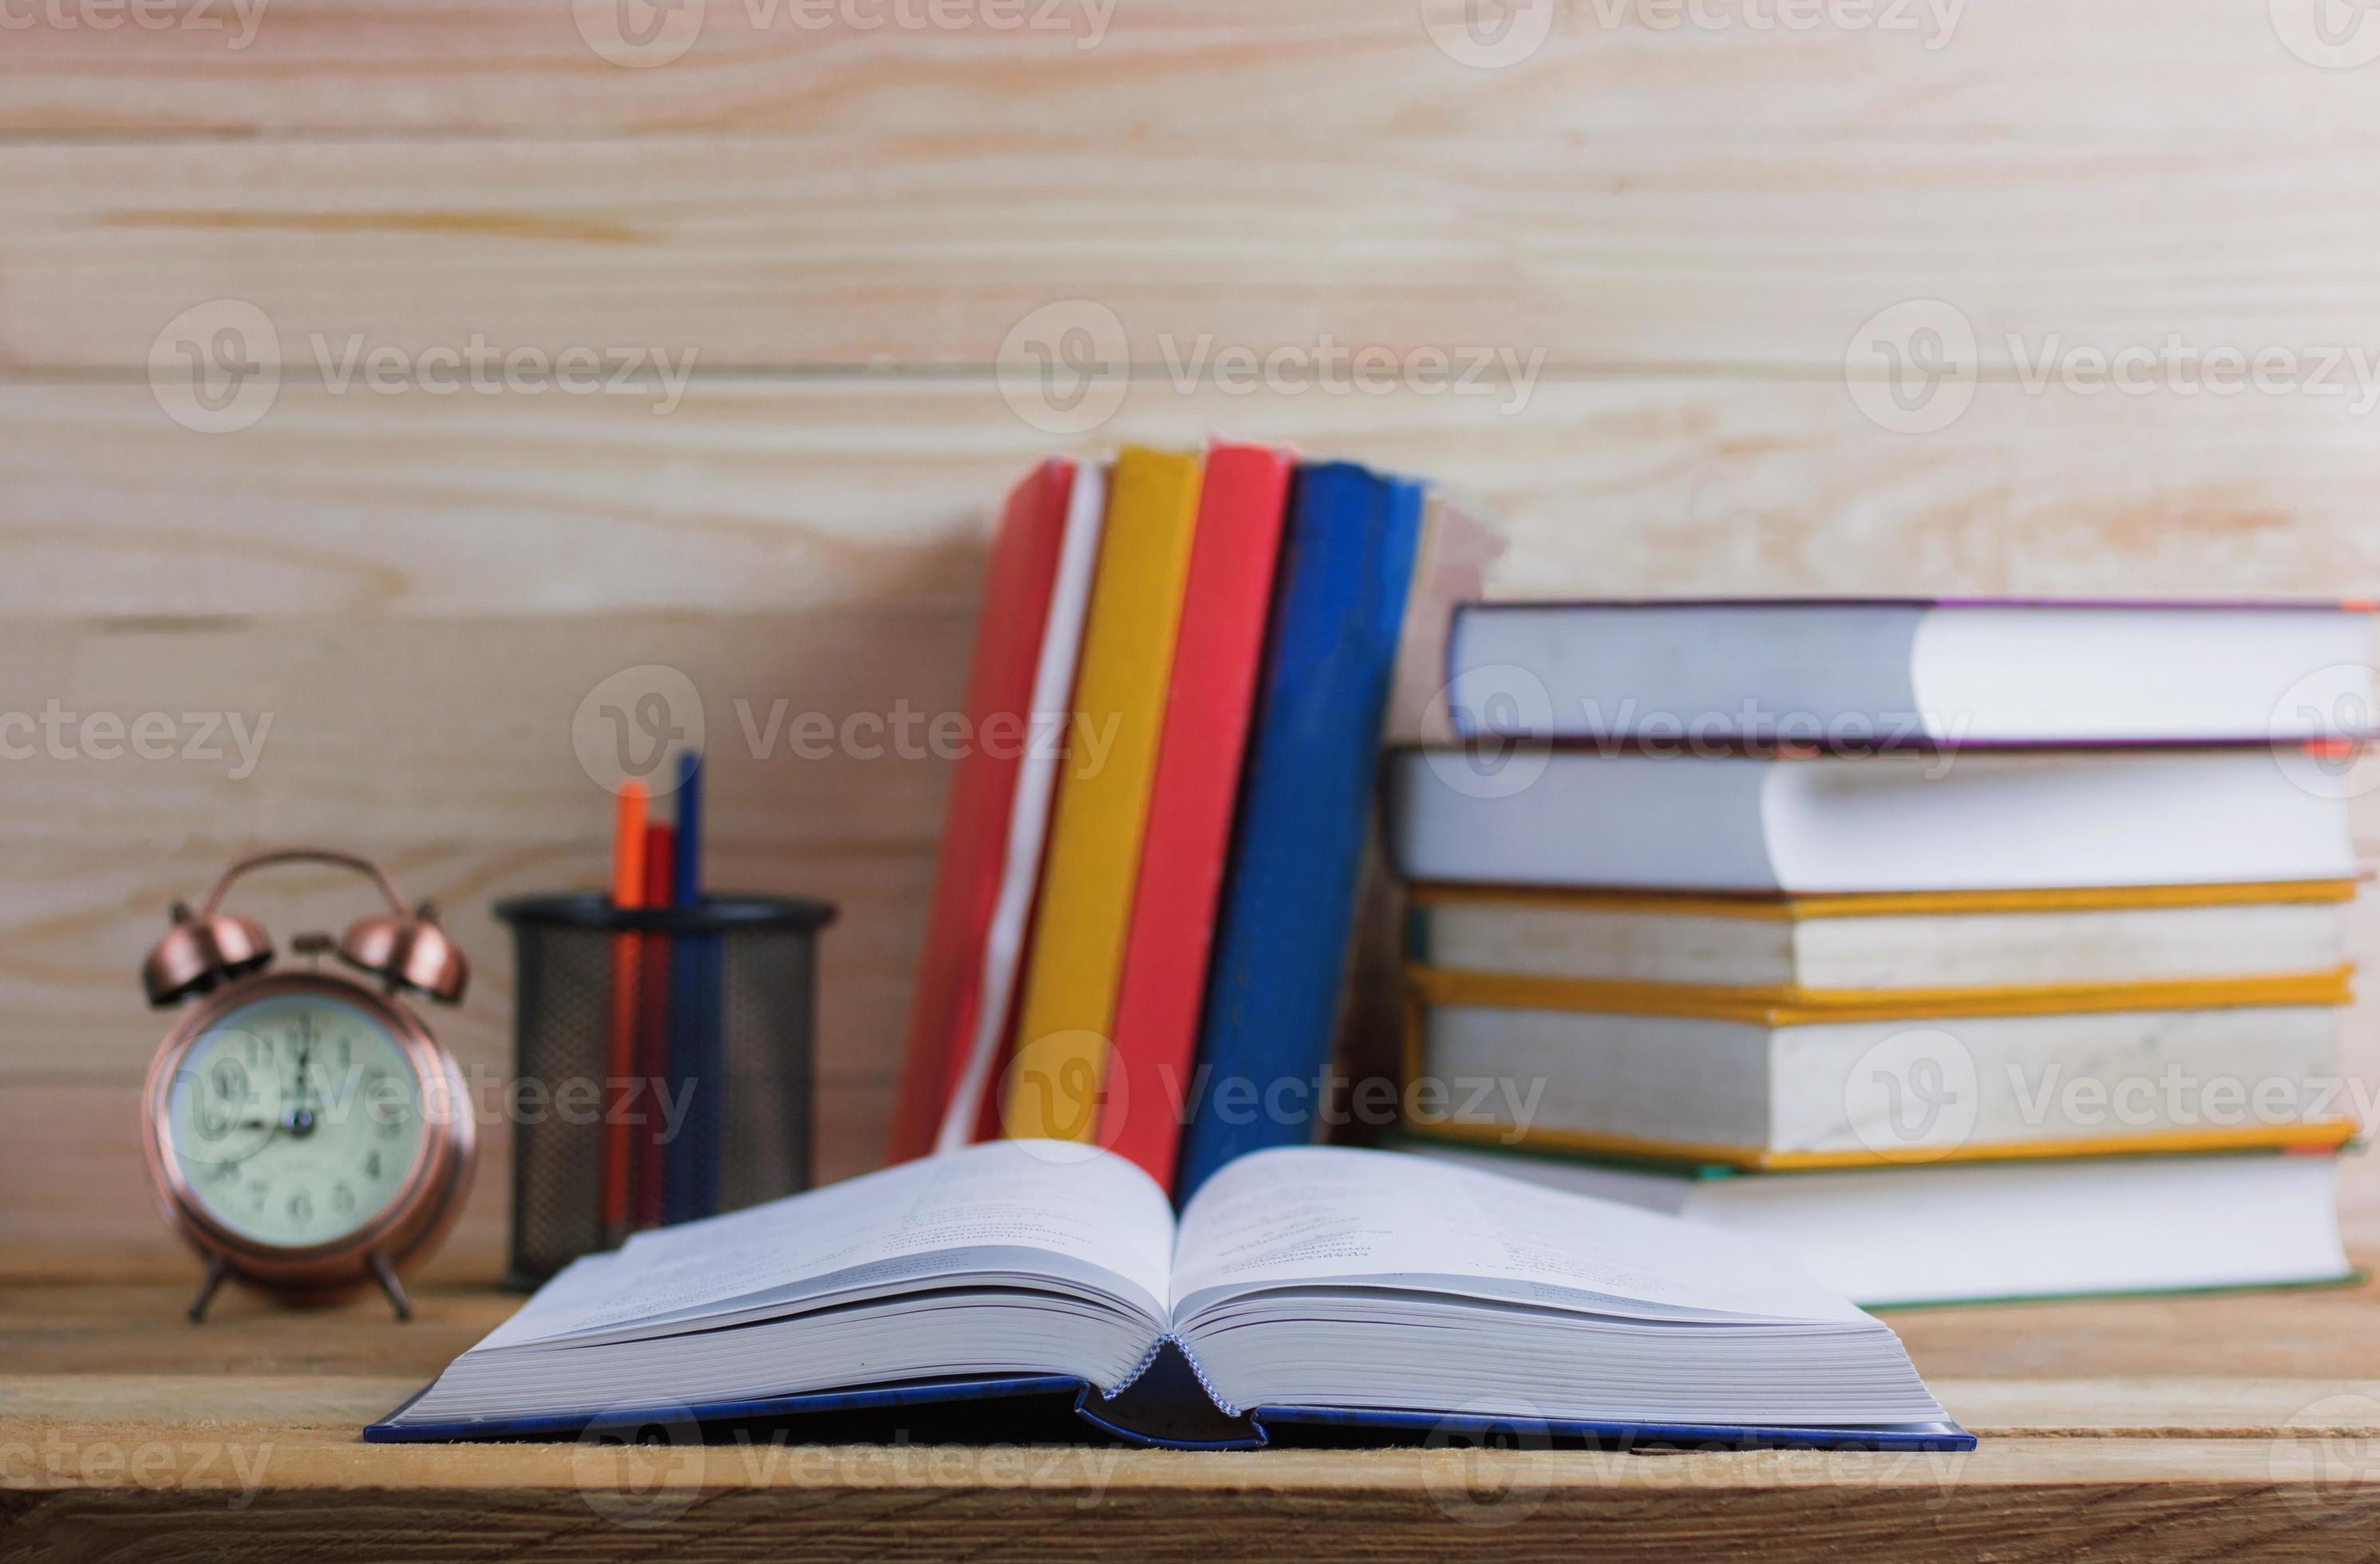Open Book: (414, 1142, 1985, 1461)
